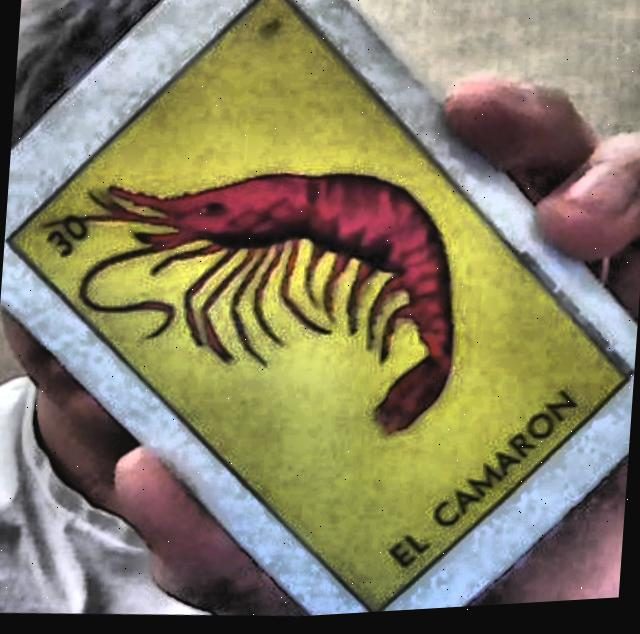El Camaron: (6, 0, 632, 615)
